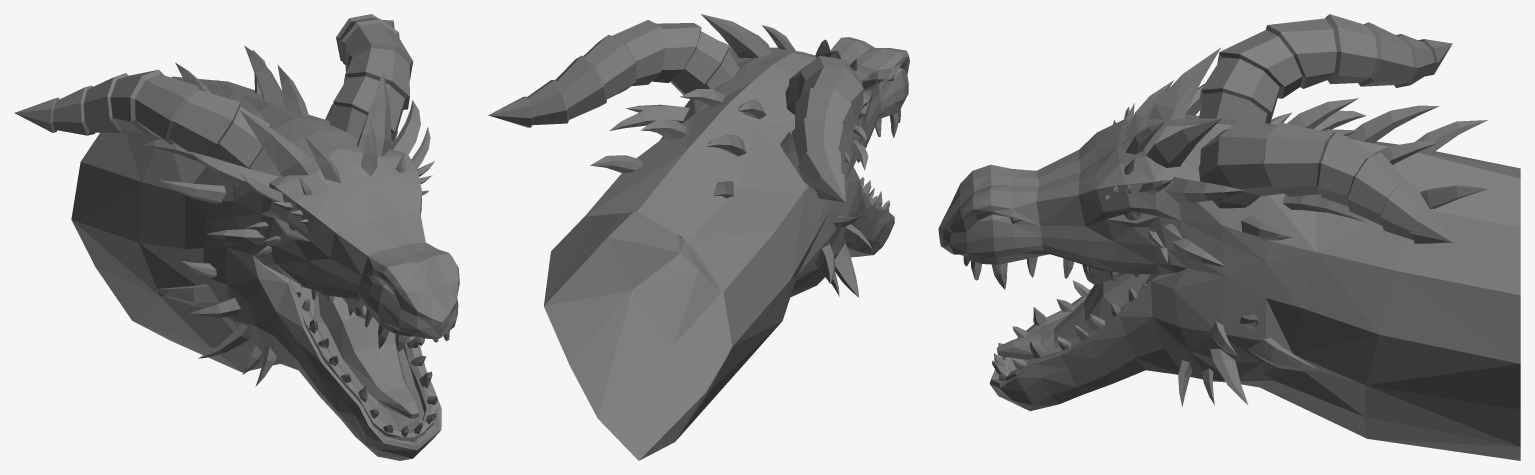
File: DragonHeadTrapStone.fbx
3 views of the same model, side by side, from view 1: azimuth 30°, elevation 25°; view 2: azimuth 150°, elevation 25°; view 3: azimuth 270°, elevation 25° (orthographic). The views are drawn at different scales.
Parts seen in each view (by area): view 1: DragonHeadTrapStone; view 2: DragonHeadTrapStone; view 3: DragonHeadTrapStone.
Part boxes in pixels (<box>): DragonHeadTrapStone: <box>14,14,459,460</box>; DragonHeadTrapStone: <box>488,14,909,460</box>; DragonHeadTrapStone: <box>938,14,1520,460</box>.
Size of the model in its own units: 63.57 by 57.4 by 78.61.
